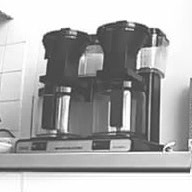empty coffee: (89, 84, 147, 135)
